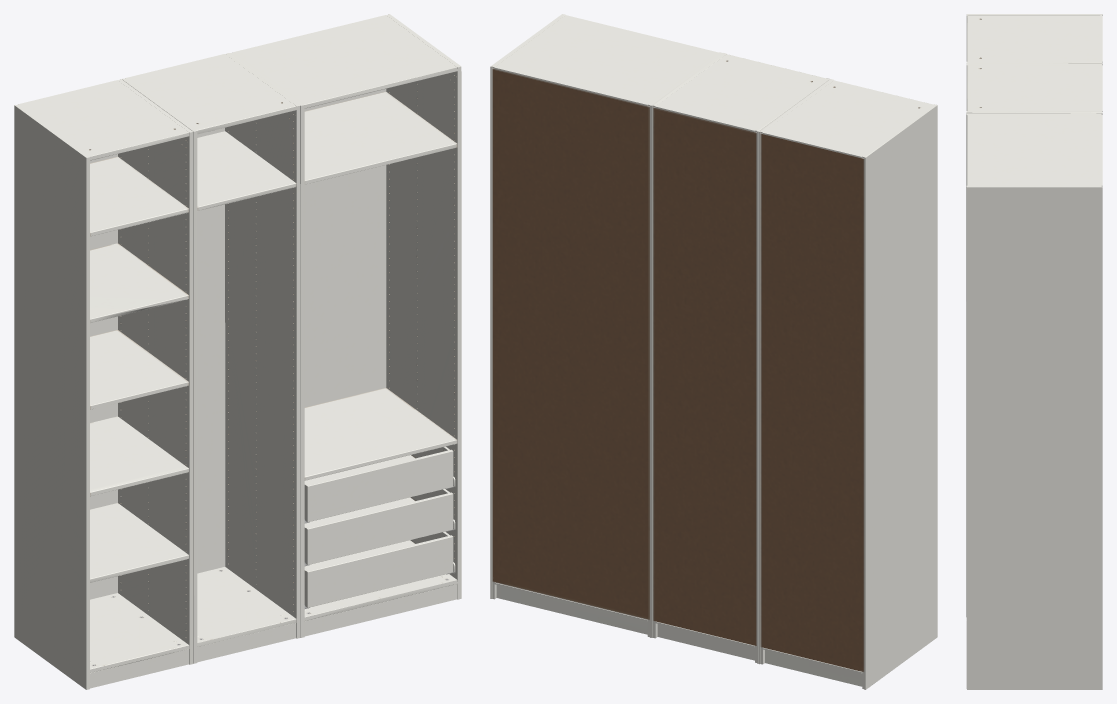
The model's file is 22 - PAX Wardrobe - white 175x58x236 cm.glb.
3 renders of one model, left to right at view 1: azimuth 30°, elevation 25°; view 2: azimuth 150°, elevation 25°; view 3: azimuth 270°, elevation 25°, orthographic. The views are drawn at different scales.
Visible parts, largest first — view 1: 80214568-wrd frm 50x58x236 white N001, 20214571-wrd frm 75x58x236 white N001, 80214568-wrd frm 50x58x236 white N002, 90277961-KOMPL shelf 75x58 white002, 90277961-KOMPL shelf 75x58 white001, 10246332-KOMPL N drawer 75x58 white001, 10246332-KOMPL N drawer 75x58 white002, 10246332-KOMPL N drawer 75x58 white003, 30277959-KOMPL shelf 50x58 white006, 30277959-KOMPL shelf 50x58 white004, 30277959-KOMPL shelf 50x58 white001, 30277959-KOMPL shelf 50x58 white002 (+2 smaller); view 2: 80214568-wrd frm 50x58x236 white N001, 20214571-wrd frm 75x58x236 white N001, 80214568-wrd frm 50x58x236 white N002; view 3: 20214571-wrd frm 75x58x236 white N001, 80214568-wrd frm 50x58x236 white N002, 80214568-wrd frm 50x58x236 white N001.
Part boxes in pixels (x1=…): 80214568-wrd frm 50x58x236 white N001: x1=14, y1=79, x2=193, y2=689; 20214571-wrd frm 75x58x236 white N001: x1=229, y1=14, x2=461, y2=637; 80214568-wrd frm 50x58x236 white N002: x1=122, y1=53, x2=300, y2=663; 90277961-KOMPL shelf 75x58 white002: x1=304, y1=91, x2=457, y2=184; 90277961-KOMPL shelf 75x58 white001: x1=304, y1=388, x2=457, y2=480; 10246332-KOMPL N drawer 75x58 white001: x1=304, y1=531, x2=455, y2=608; 10246332-KOMPL N drawer 75x58 white002: x1=304, y1=489, x2=455, y2=566; 10246332-KOMPL N drawer 75x58 white003: x1=304, y1=446, x2=455, y2=523; 30277959-KOMPL shelf 50x58 white006: x1=197, y1=131, x2=296, y2=210; 30277959-KOMPL shelf 50x58 white004: x1=90, y1=243, x2=188, y2=322; 30277959-KOMPL shelf 50x58 white001: x1=90, y1=503, x2=188, y2=582; 30277959-KOMPL shelf 50x58 white002: x1=90, y1=416, x2=188, y2=496; 80214568-wrd frm 50x58x236 white N001: x1=758, y1=79, x2=937, y2=689; 20214571-wrd frm 75x58x236 white N001: x1=490, y1=14, x2=722, y2=637; 80214568-wrd frm 50x58x236 white N002: x1=651, y1=53, x2=829, y2=663; 20214571-wrd frm 75x58x236 white N001: x1=966, y1=113, x2=1102, y2=689; 80214568-wrd frm 50x58x236 white N002: x1=966, y1=63, x2=1102, y2=113; 80214568-wrd frm 50x58x236 white N001: x1=966, y1=14, x2=1102, y2=63.
Bounding box in the file's own units: 1.74 × 2.37 × 0.5808.
Materials: 1 (1 with a texture image).
